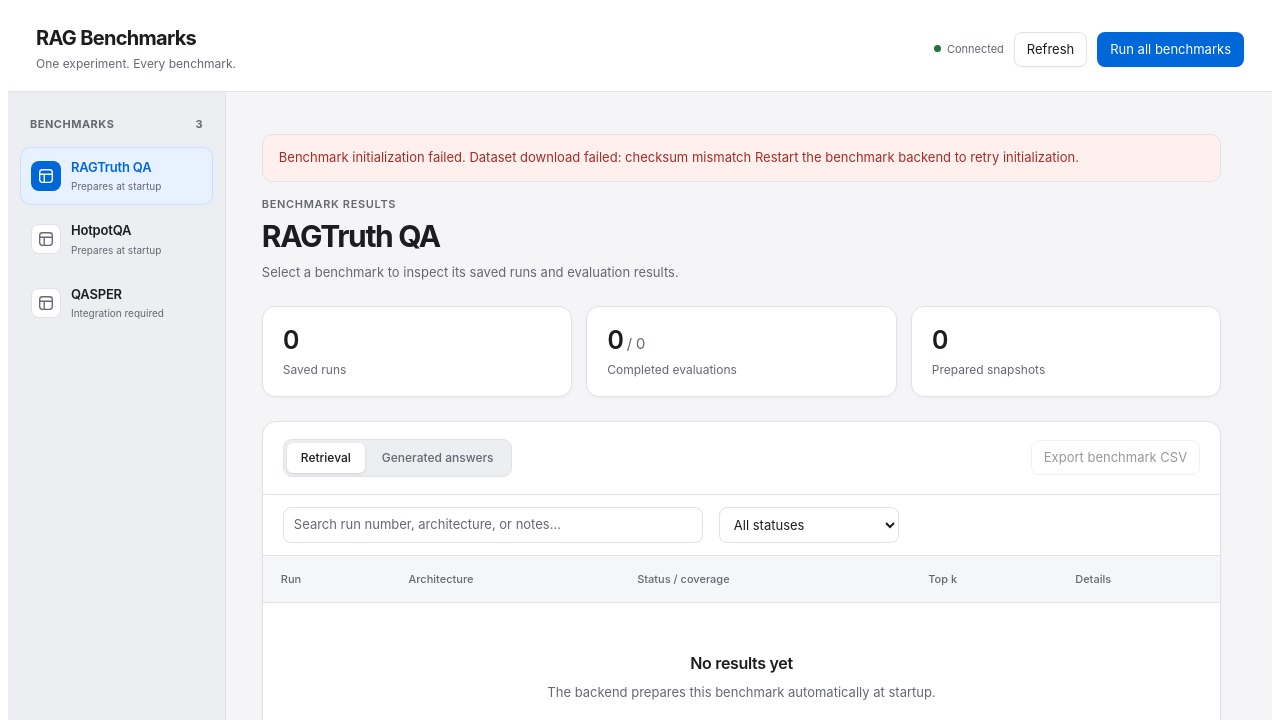
Scenario: Benchmark workspace › shows a startup failure and keeps suites disabled until the backend is restarted successfully
The width and height of the screenshot is (1280, 720).
Expected: the text "Connected" is shown, [934, 41, 1004, 58]
Expected: the message shows "Dataset download failed: checksum mismatch", [469, 149, 751, 165]
Click the button "Run all benchmarks": (1171, 50) [1097, 32, 1244, 67]
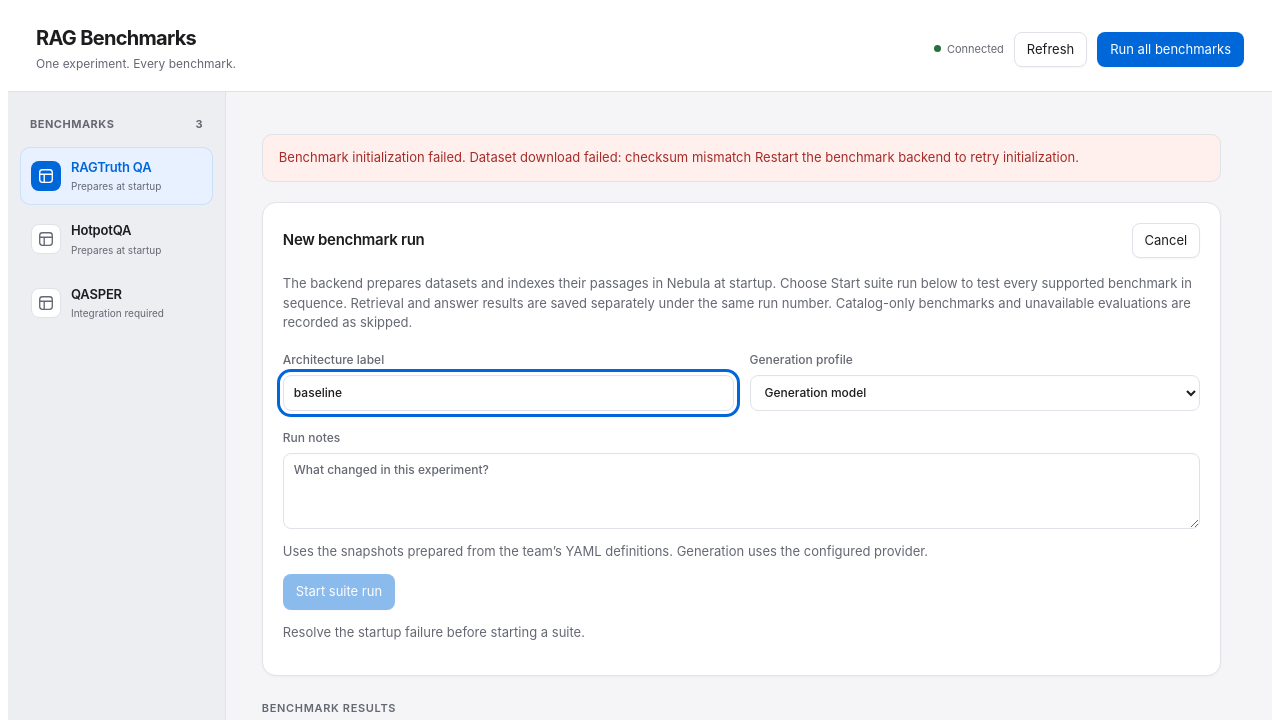
Result: the button "Start suite run" is disabled at [283, 574, 395, 610]
